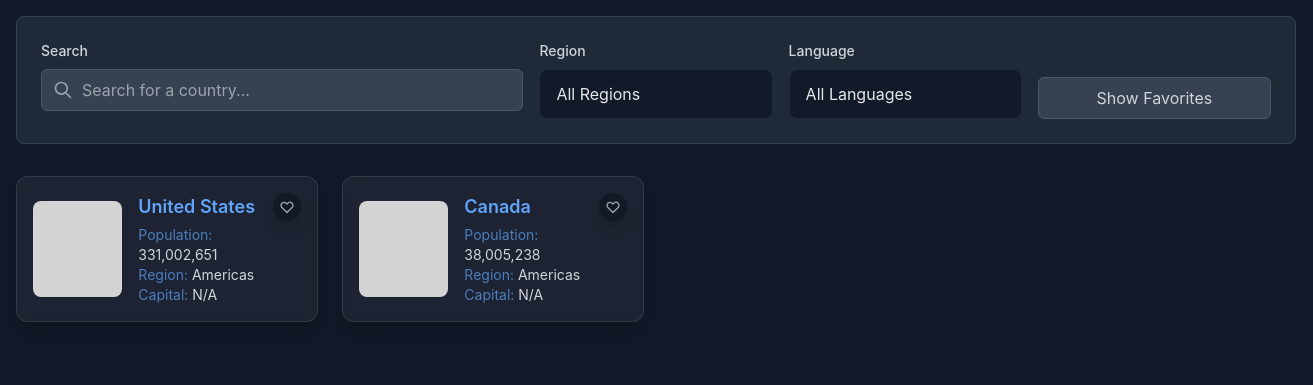
Test: Home › filters countries by search input
Type "United" into the field with placeholder "Search for a country...". click: (282, 90)
box: [41,69,523,111]
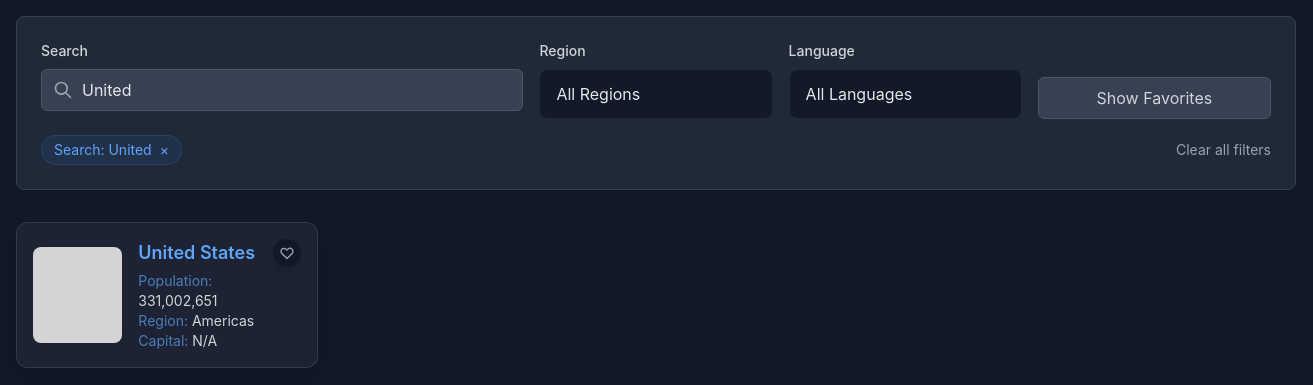
Expected: the heading "United States" is shown, [138,239,257,267]
Result: the link "Canada" is gone
